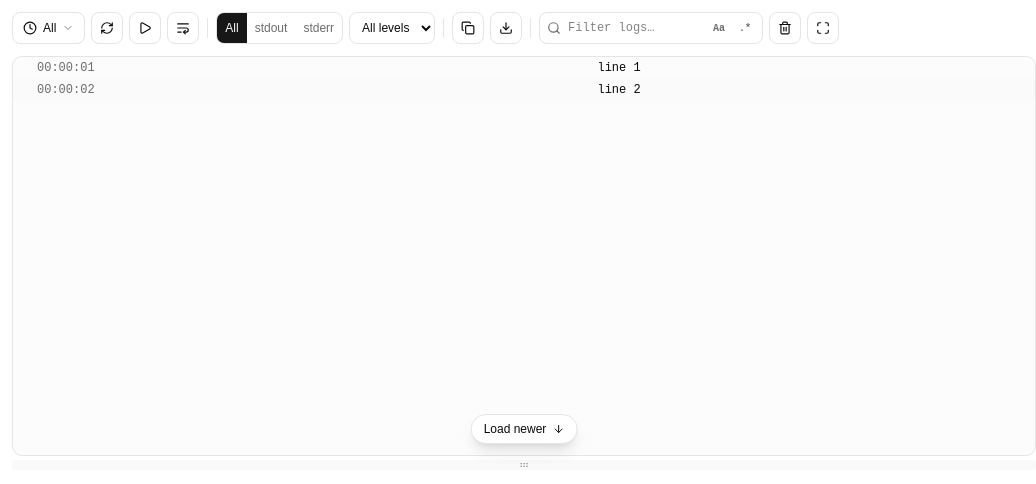
it: LogViewer › loads newer logs via Load newer button in non-live mode
Expected: the text "line 2" is shown, [598,79,1035,101]
What coordinates should you click on to do the following:
click the button "Load newer"
I would click on:
 (524, 429)
Its box is [471,414,577,444].
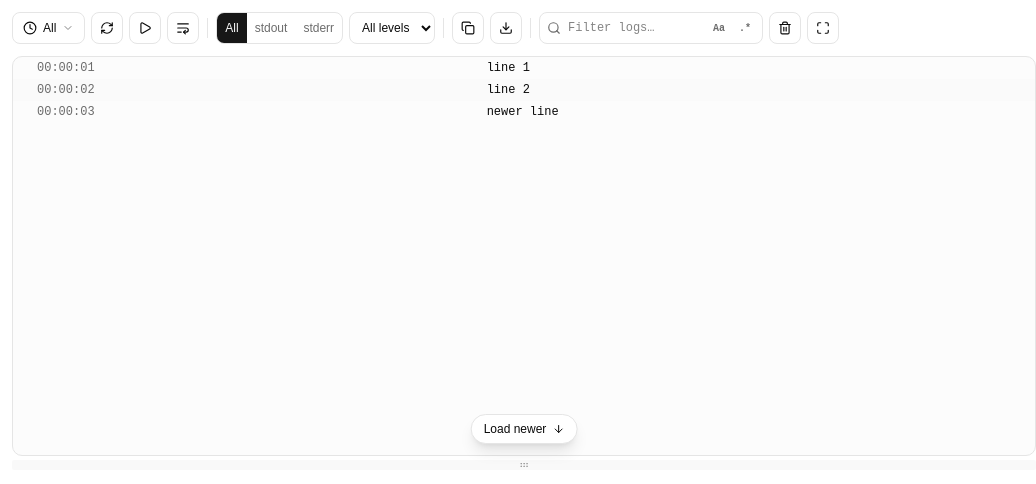
Result: the text "newer line" is shown at [487,101,1035,123]
